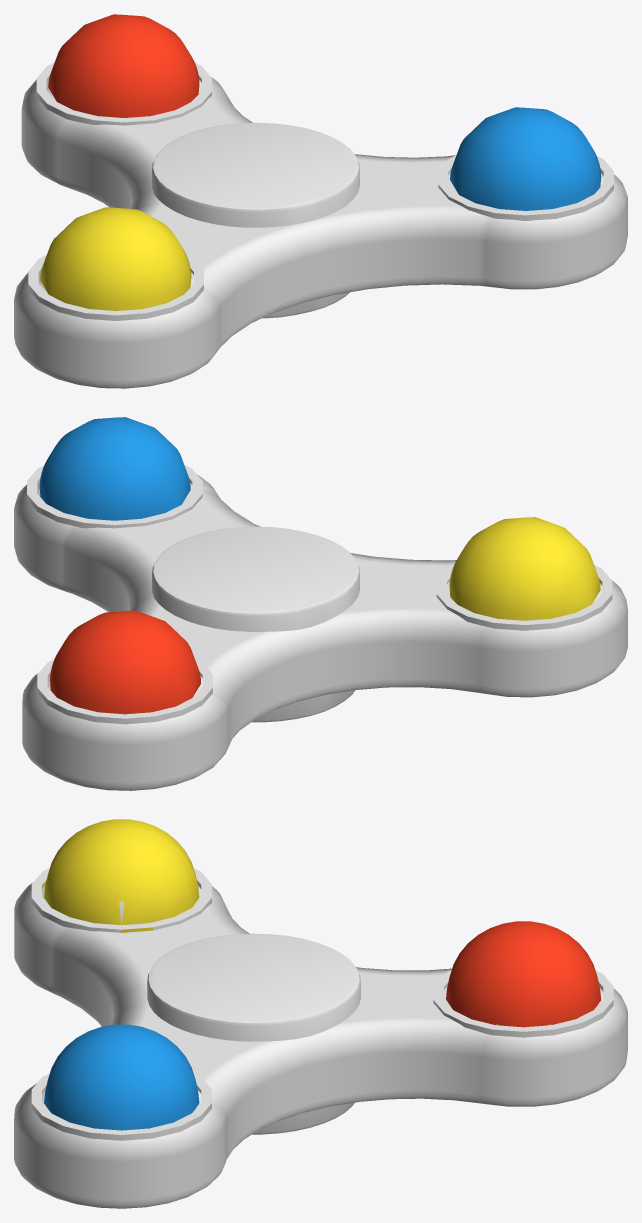
File: fidgetspinner.fbx
3 views of the same model, one above another, from view 1: azimuth 30°, elevation 25°; view 2: azimuth 150°, elevation 25°; view 3: azimuth 270°, elevation 25° (orthographic). The views are drawn at different scales.
Visible parts, largest first — view 1: fidgetspinner; view 2: fidgetspinner; view 3: fidgetspinner.
Boxes of the visible parts, <box> form: fidgetspinner: <box>14,14,627,388</box>; fidgetspinner: <box>14,417,627,790</box>; fidgetspinner: <box>14,819,627,1208</box>.
Size of the model in its own units: 1.3 by 0.3359 by 1.15.
Materials: 1 (1 with a texture image).
